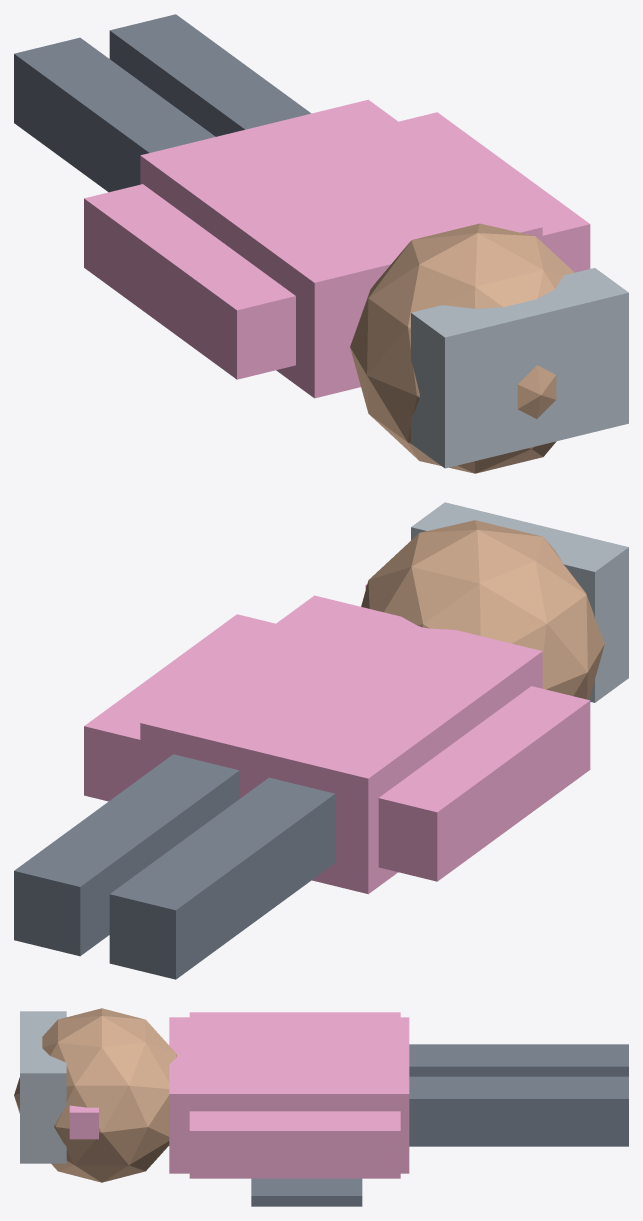
The model's file is hr_variant_2.glb.
The picture shows the model from 3 angles, top to bottom: view 1: azimuth 30°, elevation 25°; view 2: azimuth 150°, elevation 25°; view 3: azimuth 270°, elevation 25°; orthographic projection. The views are drawn at different scales.
Visible parts, largest first — view 1: torso_2, hair_6, arm_l_3, head_5, leg_l_0, leg_r_1, arm_r_4; view 2: torso_2, leg_l_0, arm_l_3, head_5, leg_r_1, arm_r_4, hair_6; view 3: torso_2, head_5, leg_r_1, arm_r_4, leg_l_0, hair_6, tablet_7, arm_l_3, earring_or_badge_8.
Part boxes in pixels (x1=…): torso_2: x1=140, y1=99, x2=542, y2=398; hair_6: x1=411, y1=268, x2=628, y2=468; arm_l_3: x1=84, y1=184, x2=295, y2=379; head_5: x1=350, y1=223, x2=574, y2=473; leg_l_0: x1=14, y1=37, x2=215, y2=192; leg_r_1: x1=109, y1=14, x2=311, y2=136; arm_r_4: x1=399, y1=112, x2=590, y2=272; torso_2: x1=140, y1=595, x2=542, y2=894; leg_l_0: x1=109, y1=777, x2=335, y2=979; arm_l_3: x1=378, y1=686, x2=590, y2=881; head_5: x1=361, y1=520, x2=604, y2=699; leg_r_1: x1=14, y1=754, x2=239, y2=956; arm_r_4: x1=84, y1=614, x2=275, y2=801; hair_6: x1=411, y1=502, x2=628, y2=702; torso_2: x1=169, y1=1017, x2=409, y2=1173; head_5: x1=14, y1=1008, x2=176, y2=1182; leg_r_1: x1=409, y1=1076, x2=628, y2=1146; arm_r_4: x1=189, y1=1111, x2=400, y2=1178; leg_l_0: x1=409, y1=1044, x2=628, y2=1076; hair_6: x1=20, y1=1011, x2=66, y2=1163; tablet_7: x1=251, y1=1178, x2=362, y2=1206; arm_l_3: x1=189, y1=1012, x2=400, y2=1017; earring_or_badge_8: x1=69, y1=1105, x2=98, y2=1139.
Size of the model in its own units: 0.96 by 0.6 by 2.1.
